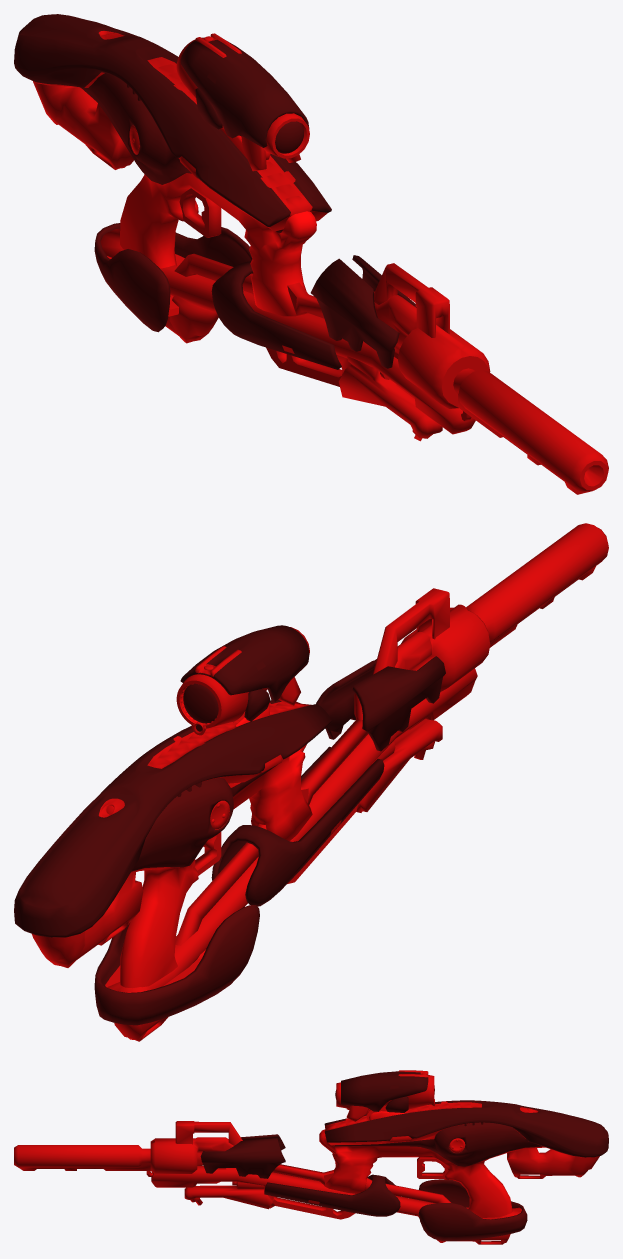
The model's file is Vex.fbx.
3 views of the same model, one above another, from view 1: azimuth 30°, elevation 25°; view 2: azimuth 150°, elevation 25°; view 3: azimuth 270°, elevation 25° (orthographic). The views are drawn at different scales.
Visible parts, largest first — view 1: Vex-Mythoclast; view 2: Vex-Mythoclast; view 3: Vex-Mythoclast.
Part boxes in pixels (x1,y1,x2,y2): Vex-Mythoclast: (14, 14, 608, 494); Vex-Mythoclast: (14, 523, 608, 1041); Vex-Mythoclast: (14, 1070, 608, 1244).
Bounding box in the file's own units: 13.27 × 37.62 × 119.
